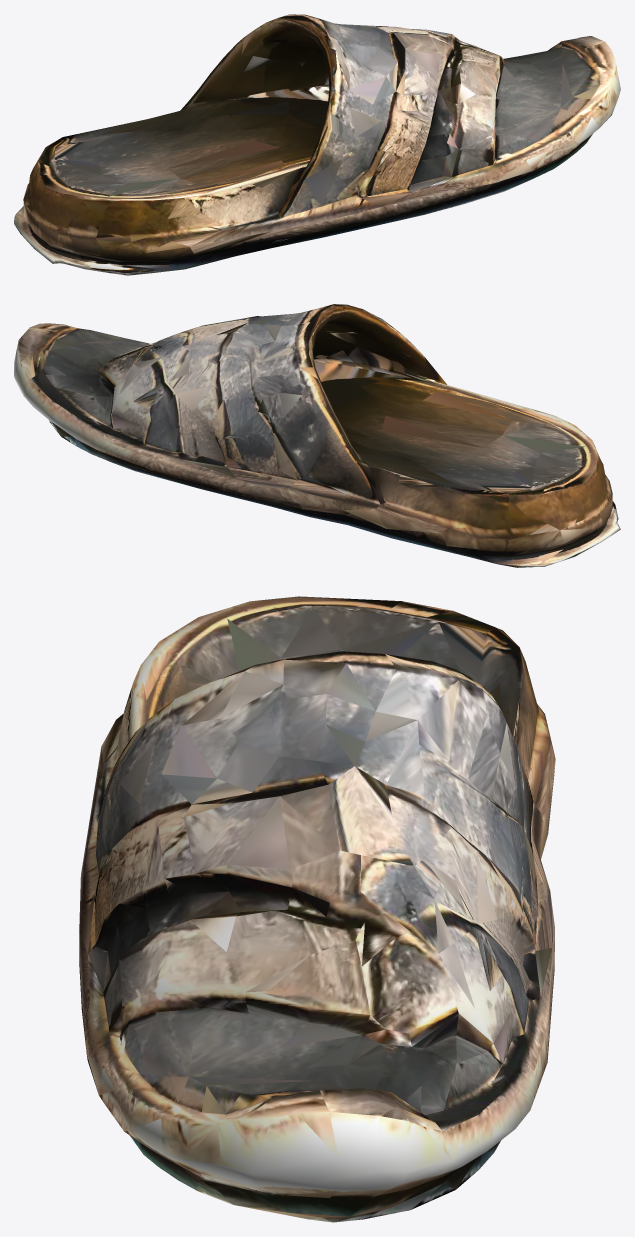
File: toad-prop-old-sandal.glb
3 renders of one model, top to bottom at view 1: azimuth 30°, elevation 25°; view 2: azimuth 150°, elevation 25°; view 3: azimuth 270°, elevation 25°, orthographic. The views are drawn at different scales.
Parts seen in each view (by area): view 1: Mesh_0; view 2: Mesh_0; view 3: Mesh_0.
Part boxes in pixels (bbox=[...]): Mesh_0: bbox=[14, 14, 620, 275]; Mesh_0: bbox=[14, 304, 620, 567]; Mesh_0: bbox=[79, 596, 555, 1222].
Bounding box in the file's own units: 0.0807 × 0.022 × 0.0289.
1 material, 1 textured.
